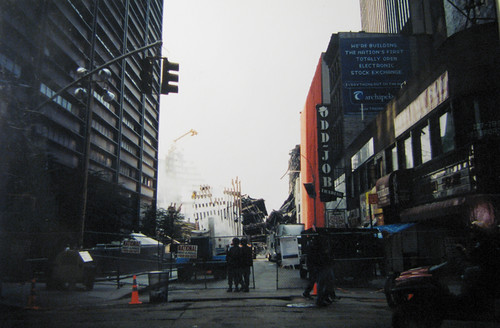building: (325, 44, 500, 258), (1, 1, 161, 216), (190, 147, 295, 248)
sky: (165, 1, 331, 183)
traffic cone: (25, 276, 45, 311), (128, 277, 144, 309)
